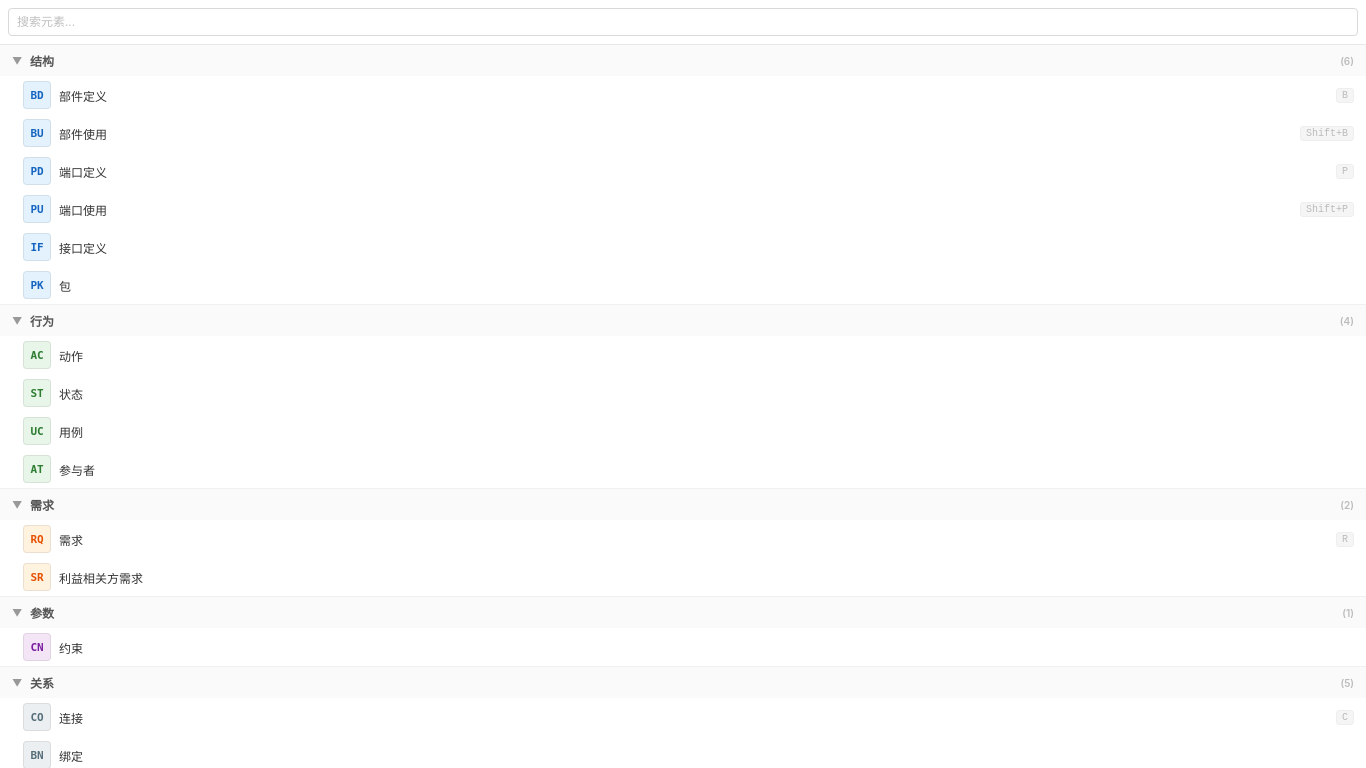
ToolboxPanel — Category Collapse/Expand › 4.2 clicking category header again should re-expand
Click the text "结构": click(42, 62) [30, 54, 54, 69]
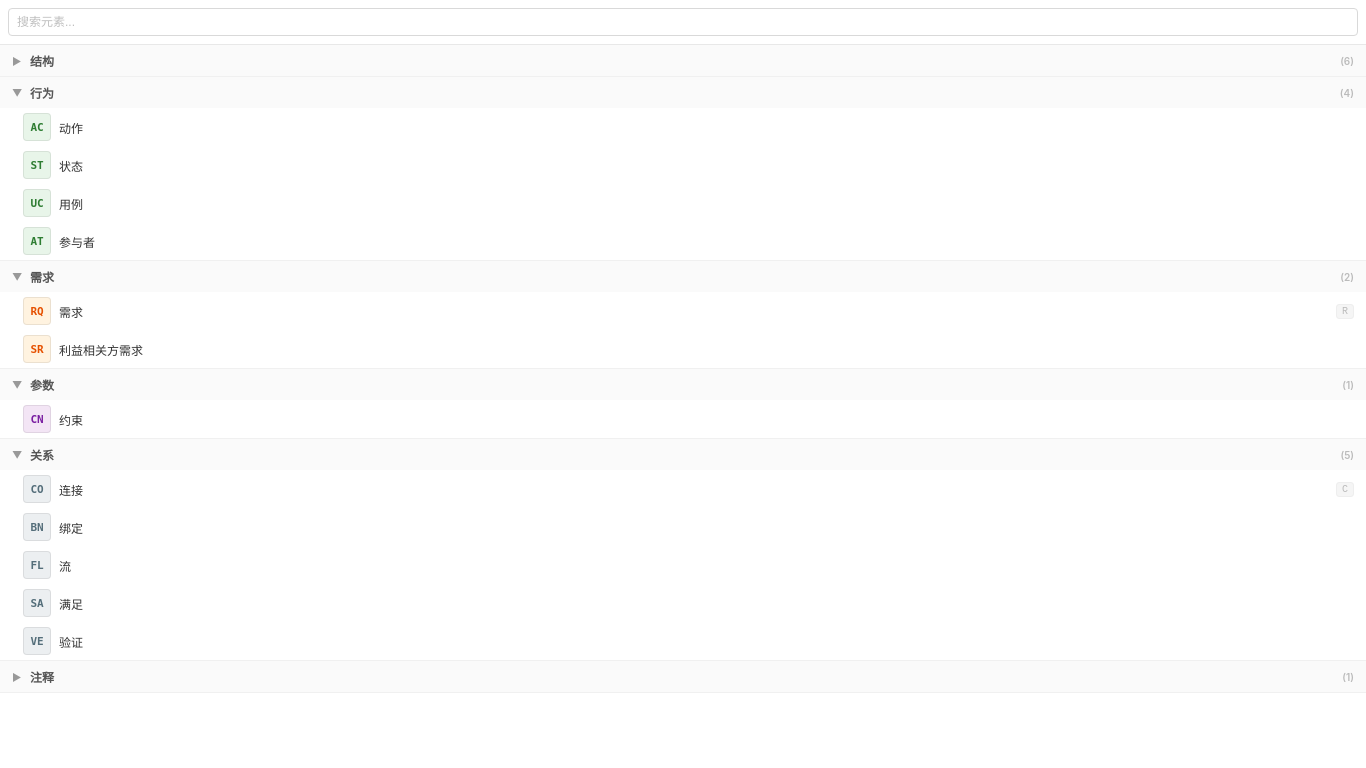
Now the text "部件定义" is gone
Click the text "结构": click(42, 62) [30, 54, 54, 69]
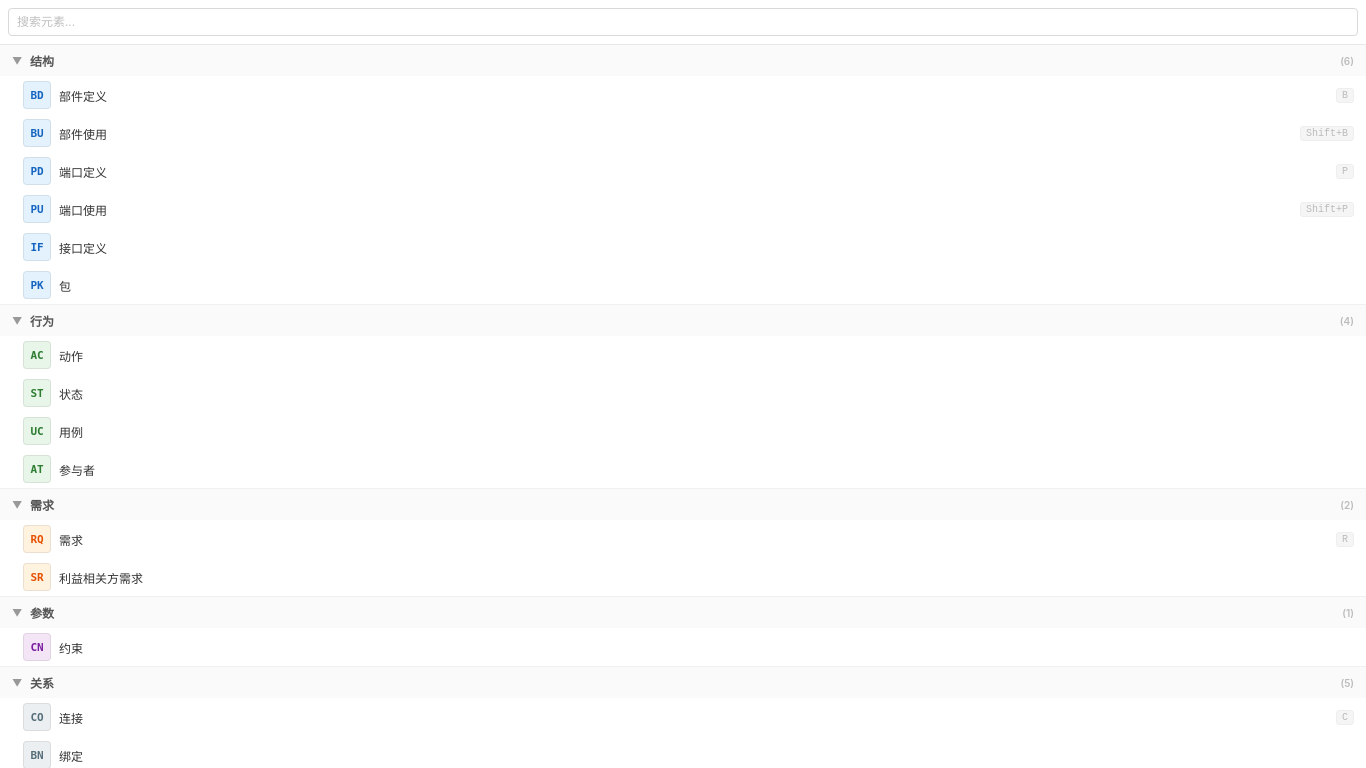
Now the text "部件定义" is shown, box [59, 88, 107, 104]
